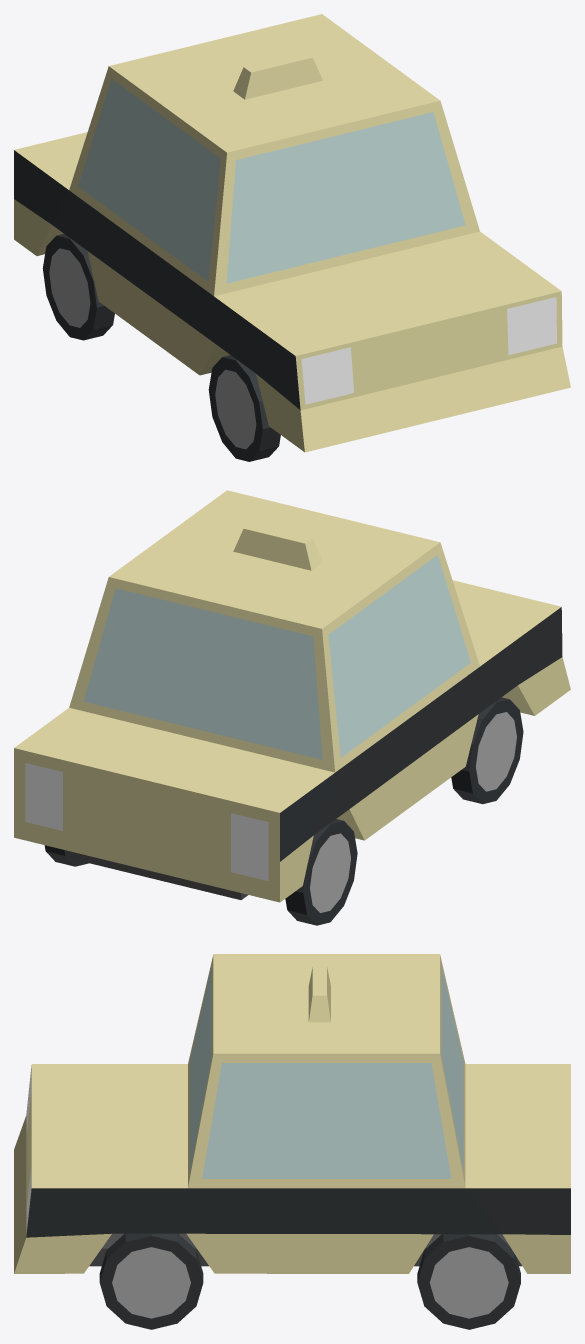
Rendered from Taxi.FBX.
3 renders of one model, top to bottom at view 1: azimuth 30°, elevation 25°; view 2: azimuth 150°, elevation 25°; view 3: azimuth 270°, elevation 25°, orthographic. The views are drawn at different scales.
Visible parts, largest first — view 1: Taxi; view 2: Taxi; view 3: Taxi.
Boxes of the visible parts, bbox=[...] form: Taxi: bbox=[14, 14, 570, 461]; Taxi: bbox=[14, 490, 570, 925]; Taxi: bbox=[14, 954, 570, 1329].
Bounding box in the file's own units: 59.27 × 63.88 × 112.
